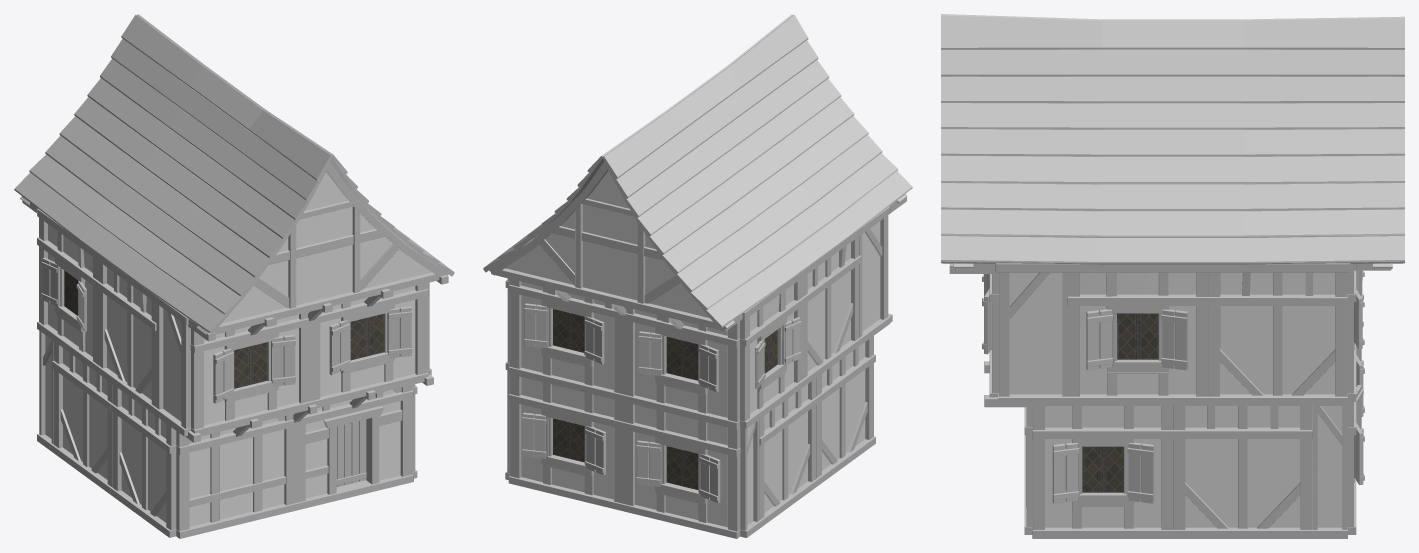
File: House_1A1.fbx
3 renders of one model, left to right at view 1: azimuth 30°, elevation 25°; view 2: azimuth 150°, elevation 25°; view 3: azimuth 270°, elevation 25°, orthographic. The views are drawn at different scales.
Visible parts, largest first — view 1: House_1A1, Cube.2372, Plane.345, Plane.344; view 2: House_1A1, Plane.346, Plane.348, Plane.347, Plane.349; view 3: House_1A1, Plane.371, Plane.372.
Boxes of the visible parts, x1,y1,x2,y2 form: House_1A1: (14, 14, 454, 538); Cube.2372: (336, 419, 366, 486); Plane.345: (350, 314, 384, 360); Plane.344: (234, 342, 267, 388); House_1A1: (483, 14, 912, 538); Plane.346: (666, 337, 698, 380); Plane.348: (666, 446, 698, 489); Plane.347: (553, 309, 584, 352); Plane.349: (553, 418, 584, 462); House_1A1: (941, 14, 1404, 538); Plane.371: (1117, 313, 1158, 359); Plane.372: (1082, 446, 1123, 492).
Bounding box in the file's own units: 915 × 1304 × 1196.
